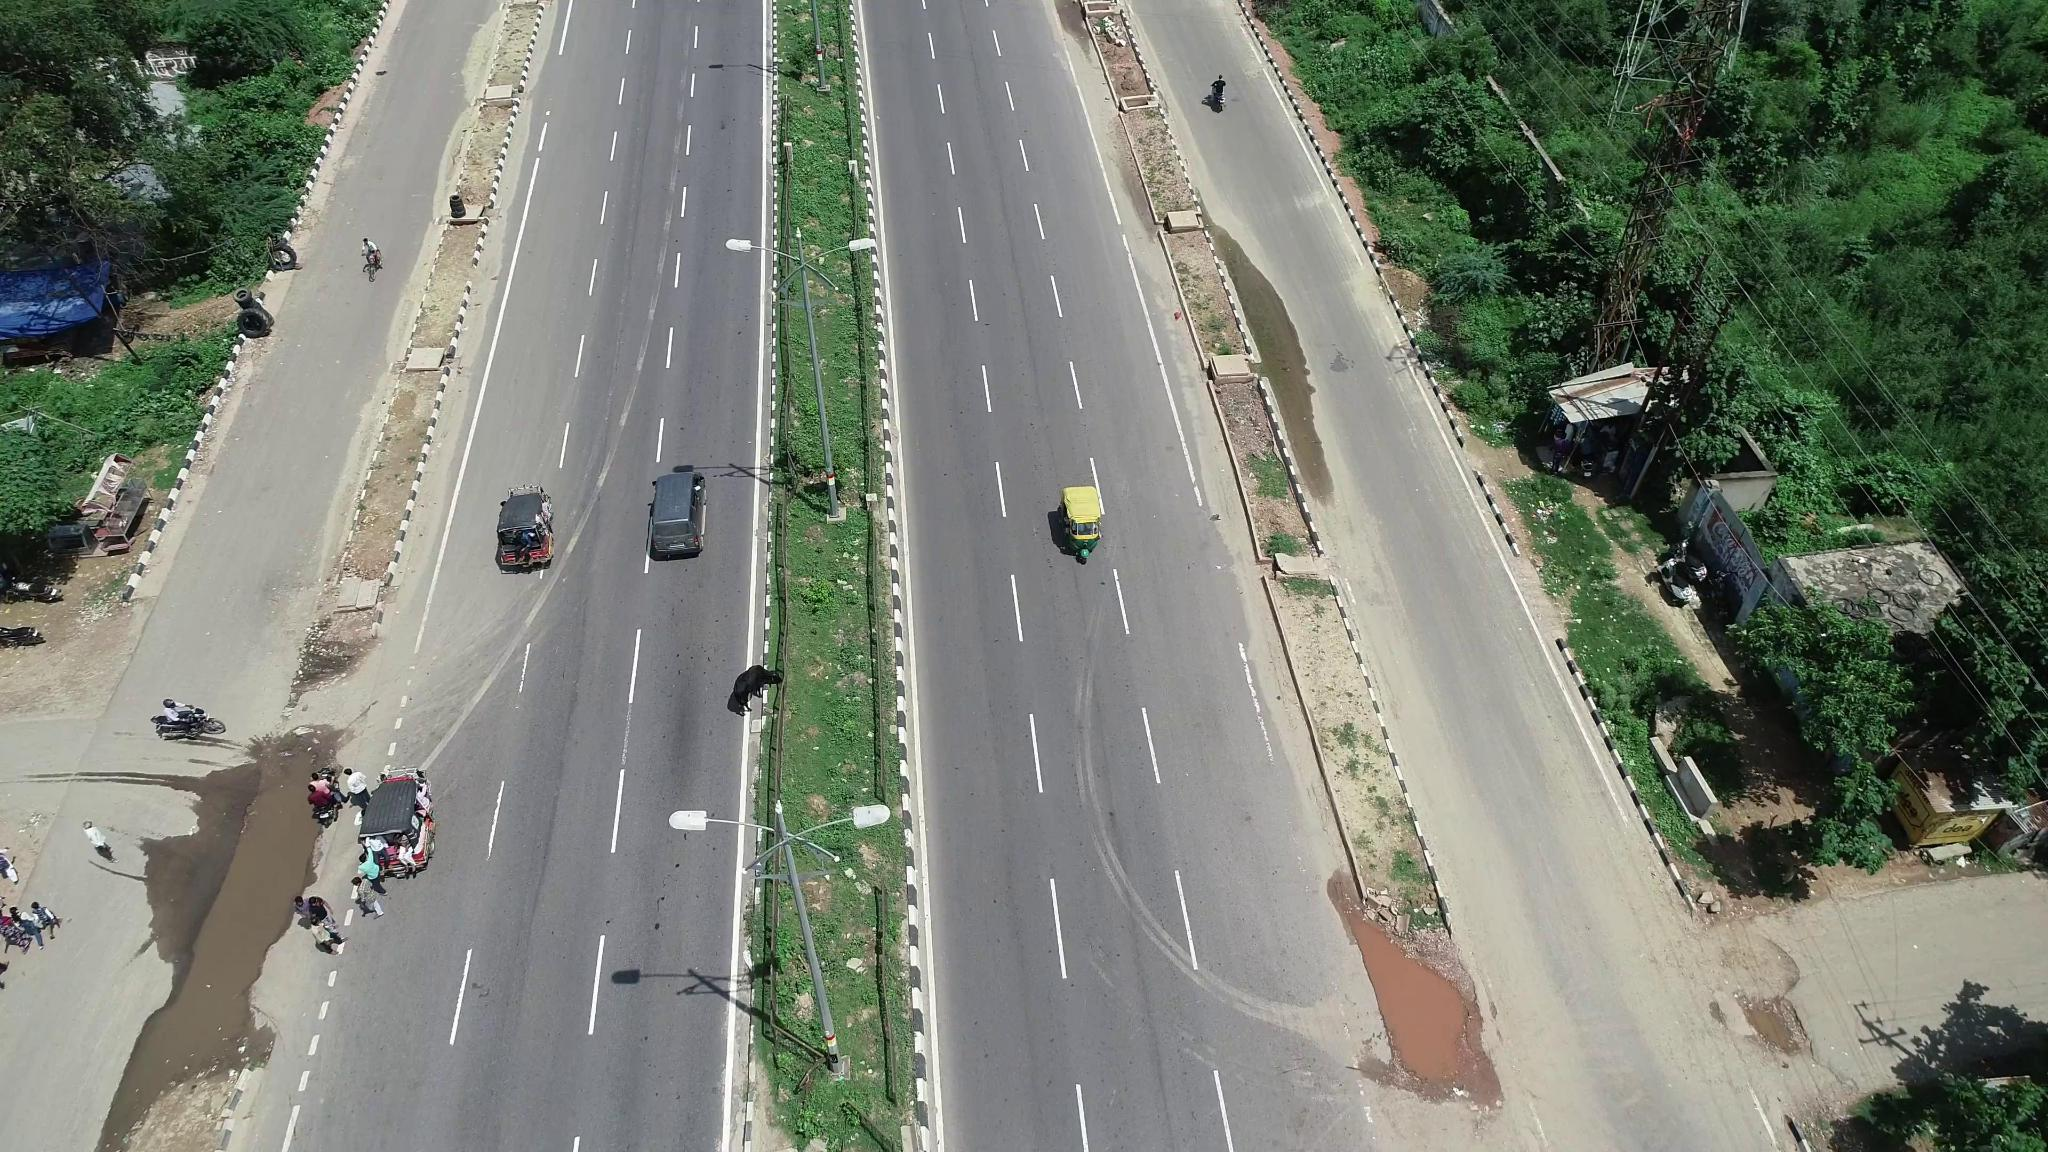Waterlogging: (129, 810, 307, 1047), (1326, 916, 1466, 1080)
